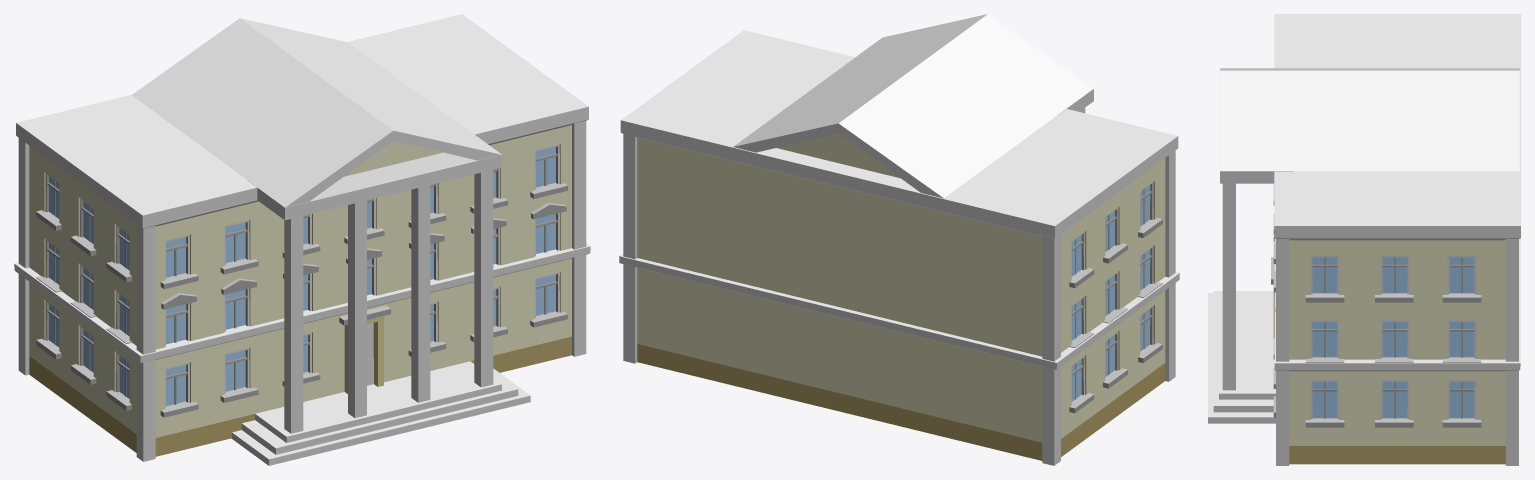
File: house_art_001.fbx
3 views of the same model, side by side, from view 1: azimuth 30°, elevation 25°; view 2: azimuth 150°, elevation 25°; view 3: azimuth 270°, elevation 25° (orthographic). The views are drawn at different scales.
Parts seen in each view (by area): view 1: house_art_001; view 2: house_art_001; view 3: house_art_001.
Part boxes in pixels (box(x1,y1,x2,y2)): house_art_001: box(14, 14, 590, 465); house_art_001: box(619, 14, 1179, 465); house_art_001: box(1208, 14, 1520, 465).
Size of the model in its own units: 1529 by 970 by 945.
